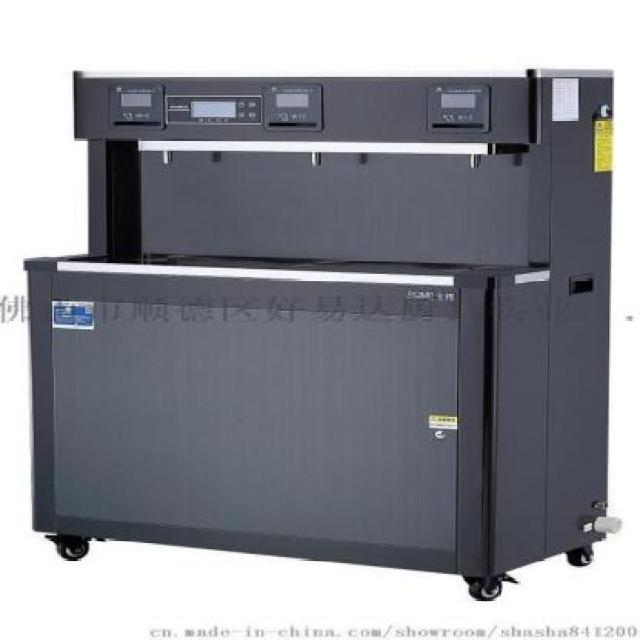cooler: (28, 61, 624, 602)
